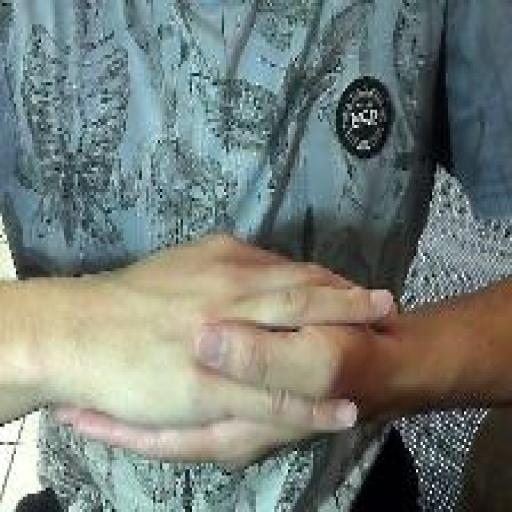Saru -monkey-: (52, 227, 404, 480)
